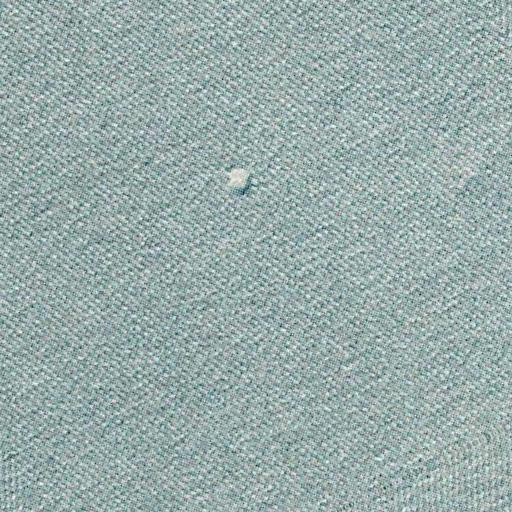knot: (211, 157, 261, 202)
